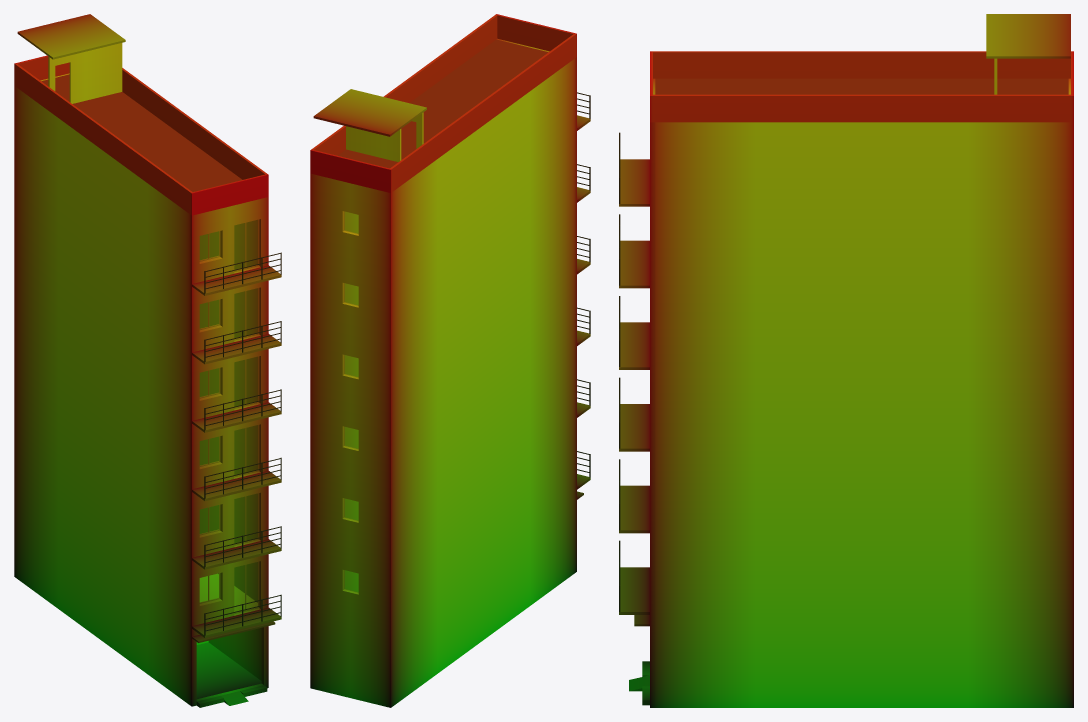
The model's file is khach_san_mini_4x16.glb.
3 views of the same model, side by side, from view 1: azimuth 30°, elevation 25°; view 2: azimuth 150°, elevation 25°; view 3: azimuth 270°, elevation 25° (orthographic). The views are drawn at different scales.
Parts seen in each view (by area): view 1: khach_san_mini_4x16; view 2: khach_san_mini_4x16; view 3: khach_san_mini_4x16.
Part boxes in pixels (x1=…): khach_san_mini_4x16: x1=14, y1=14, x2=281, y2=707; khach_san_mini_4x16: x1=310, y1=14, x2=590, y2=707; khach_san_mini_4x16: x1=619, y1=14, x2=1073, y2=707.
Size of what is drawn, in the model's own units: 4 by 27.1 by 17.17.
